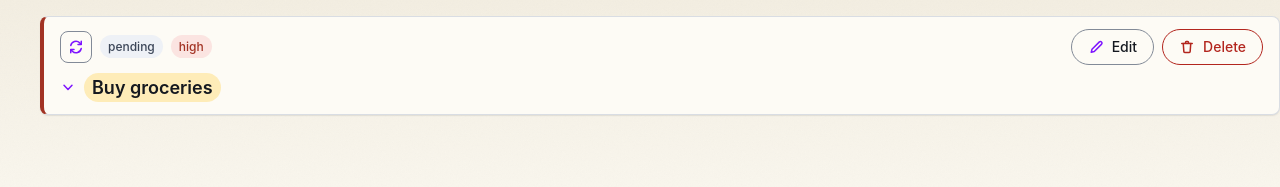
Test: TaskItem › the title opens and closes the detail, and reports its state
Click the button "Buy groceries" at (152, 87), box 60,72 -> 1263,102
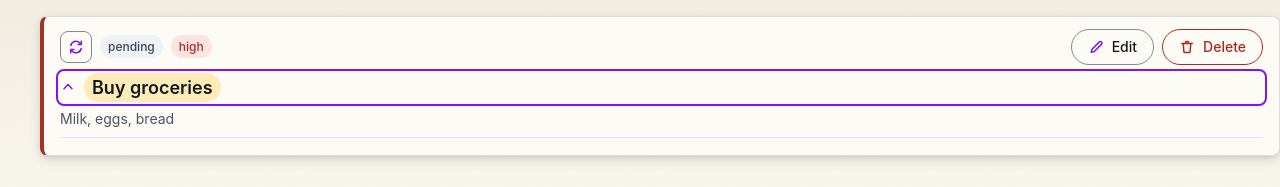
Result: the button "Buy groceries" is expanded
Result: the text "Milk, eggs, bread" is shown at 60,110 -> 174,126
Click the button "Buy groceries" at (152, 87), box 60,72 -> 1263,102
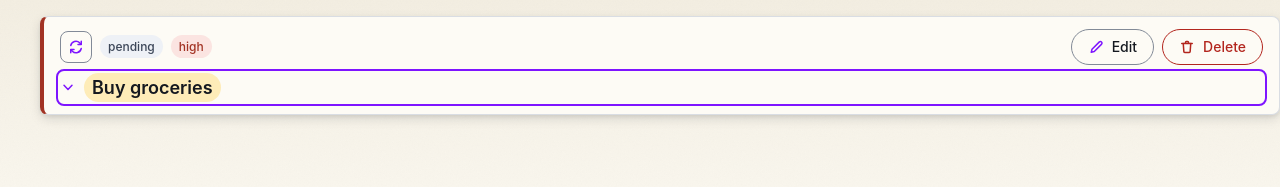
Result: the button "Buy groceries" is collapsed at 60,72 -> 1263,102
Result: the text "Milk, eggs, bread" is gone
